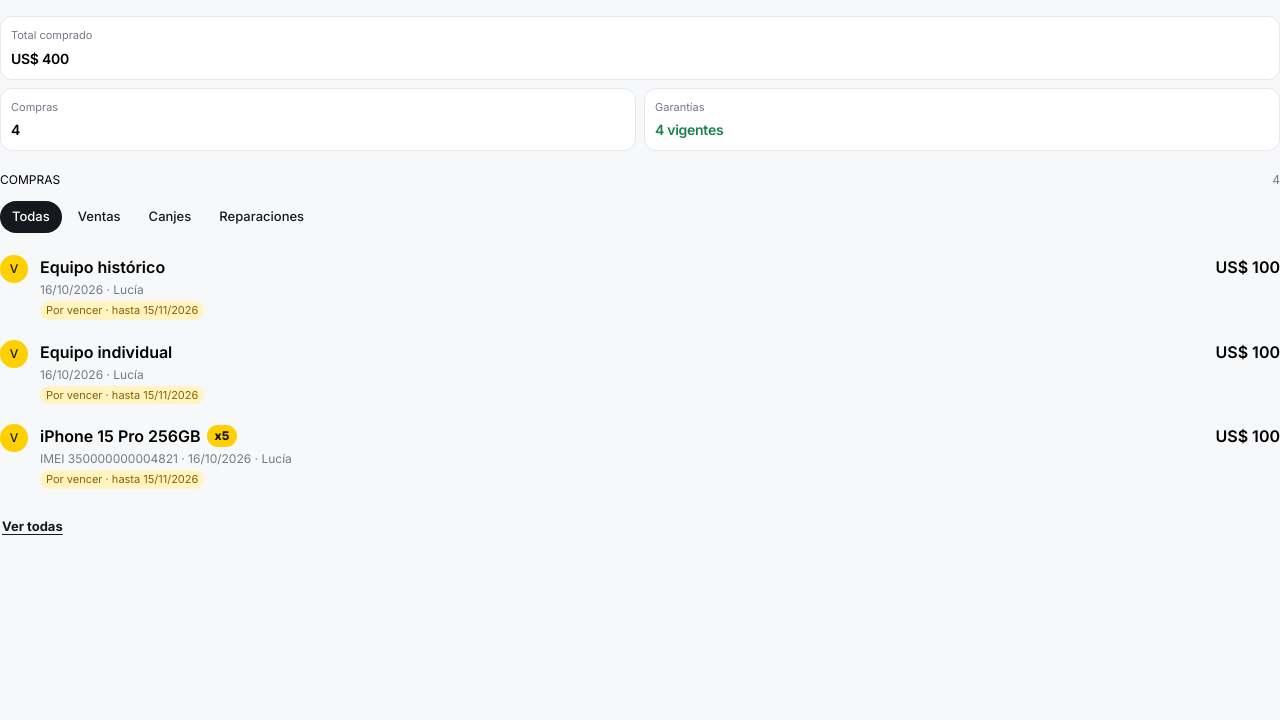
Test case: client purchases › shows sale quantities in preview and full history (phone=false)
The width and height of the screenshot is (1280, 720).
Expected: the element with test id "purchase-sale-bulk" shows "iPhone 15 Pro 256GB x5", [0,414,1279,498]
Expected: the text with class "sale-quantity" reads "x5", [215,428,230,443]
Click the button with test id "purchases-more" at x=32, y=526, box [0,514,65,538]
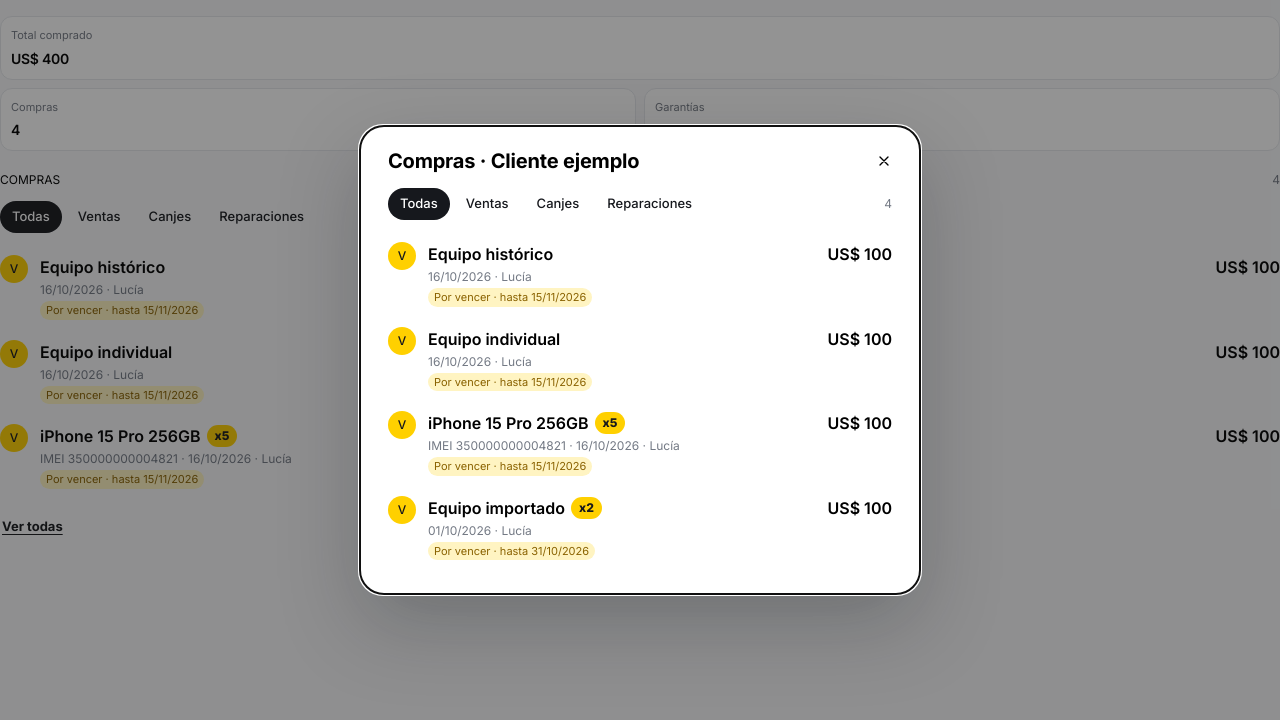
Expected: the element with test id "purchase-sale-bulk" shows "iPhone 15 Pro 256GB x5", [388,401,892,486]
Expected: the element with test id "purchase-sale-bulk-import" shows "Equipo importado x2", [388,486,892,570]
Expected: the text with class "sale-quantity" reads "x2", [579,500,594,514]
